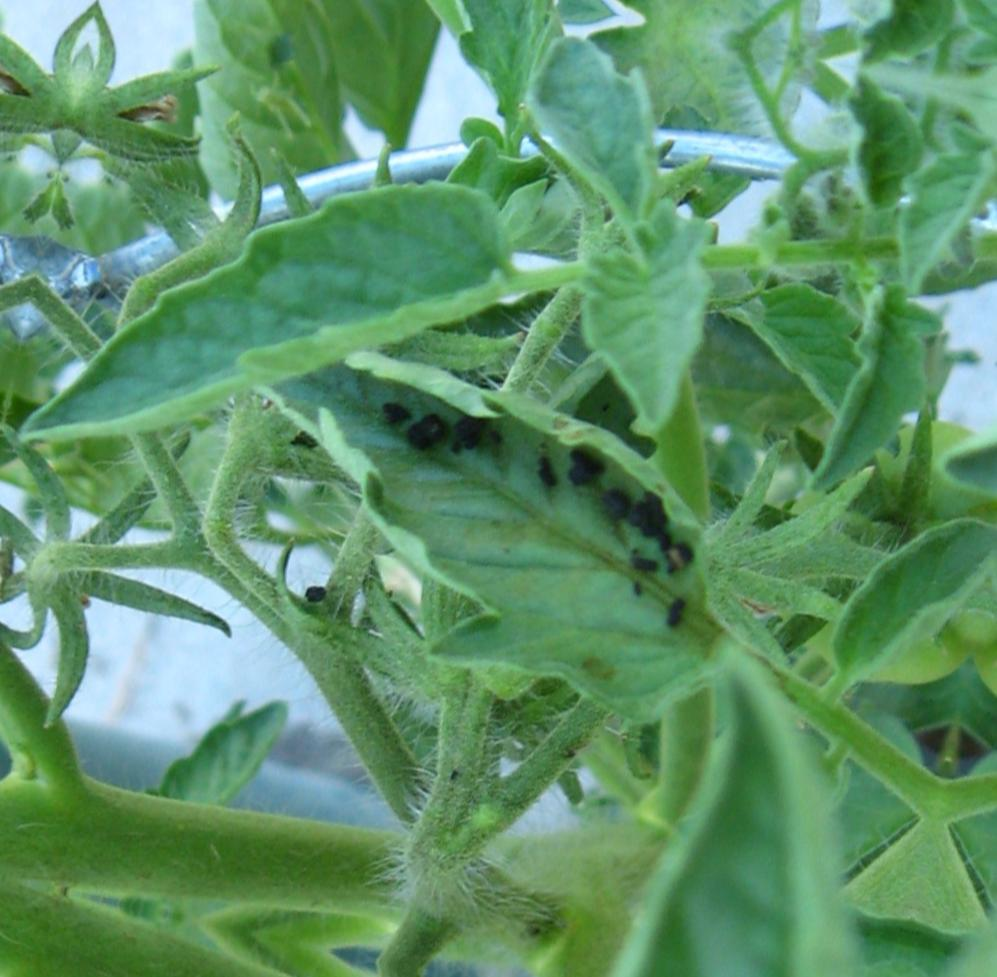Tomato leaf: (11, 113, 551, 543)
